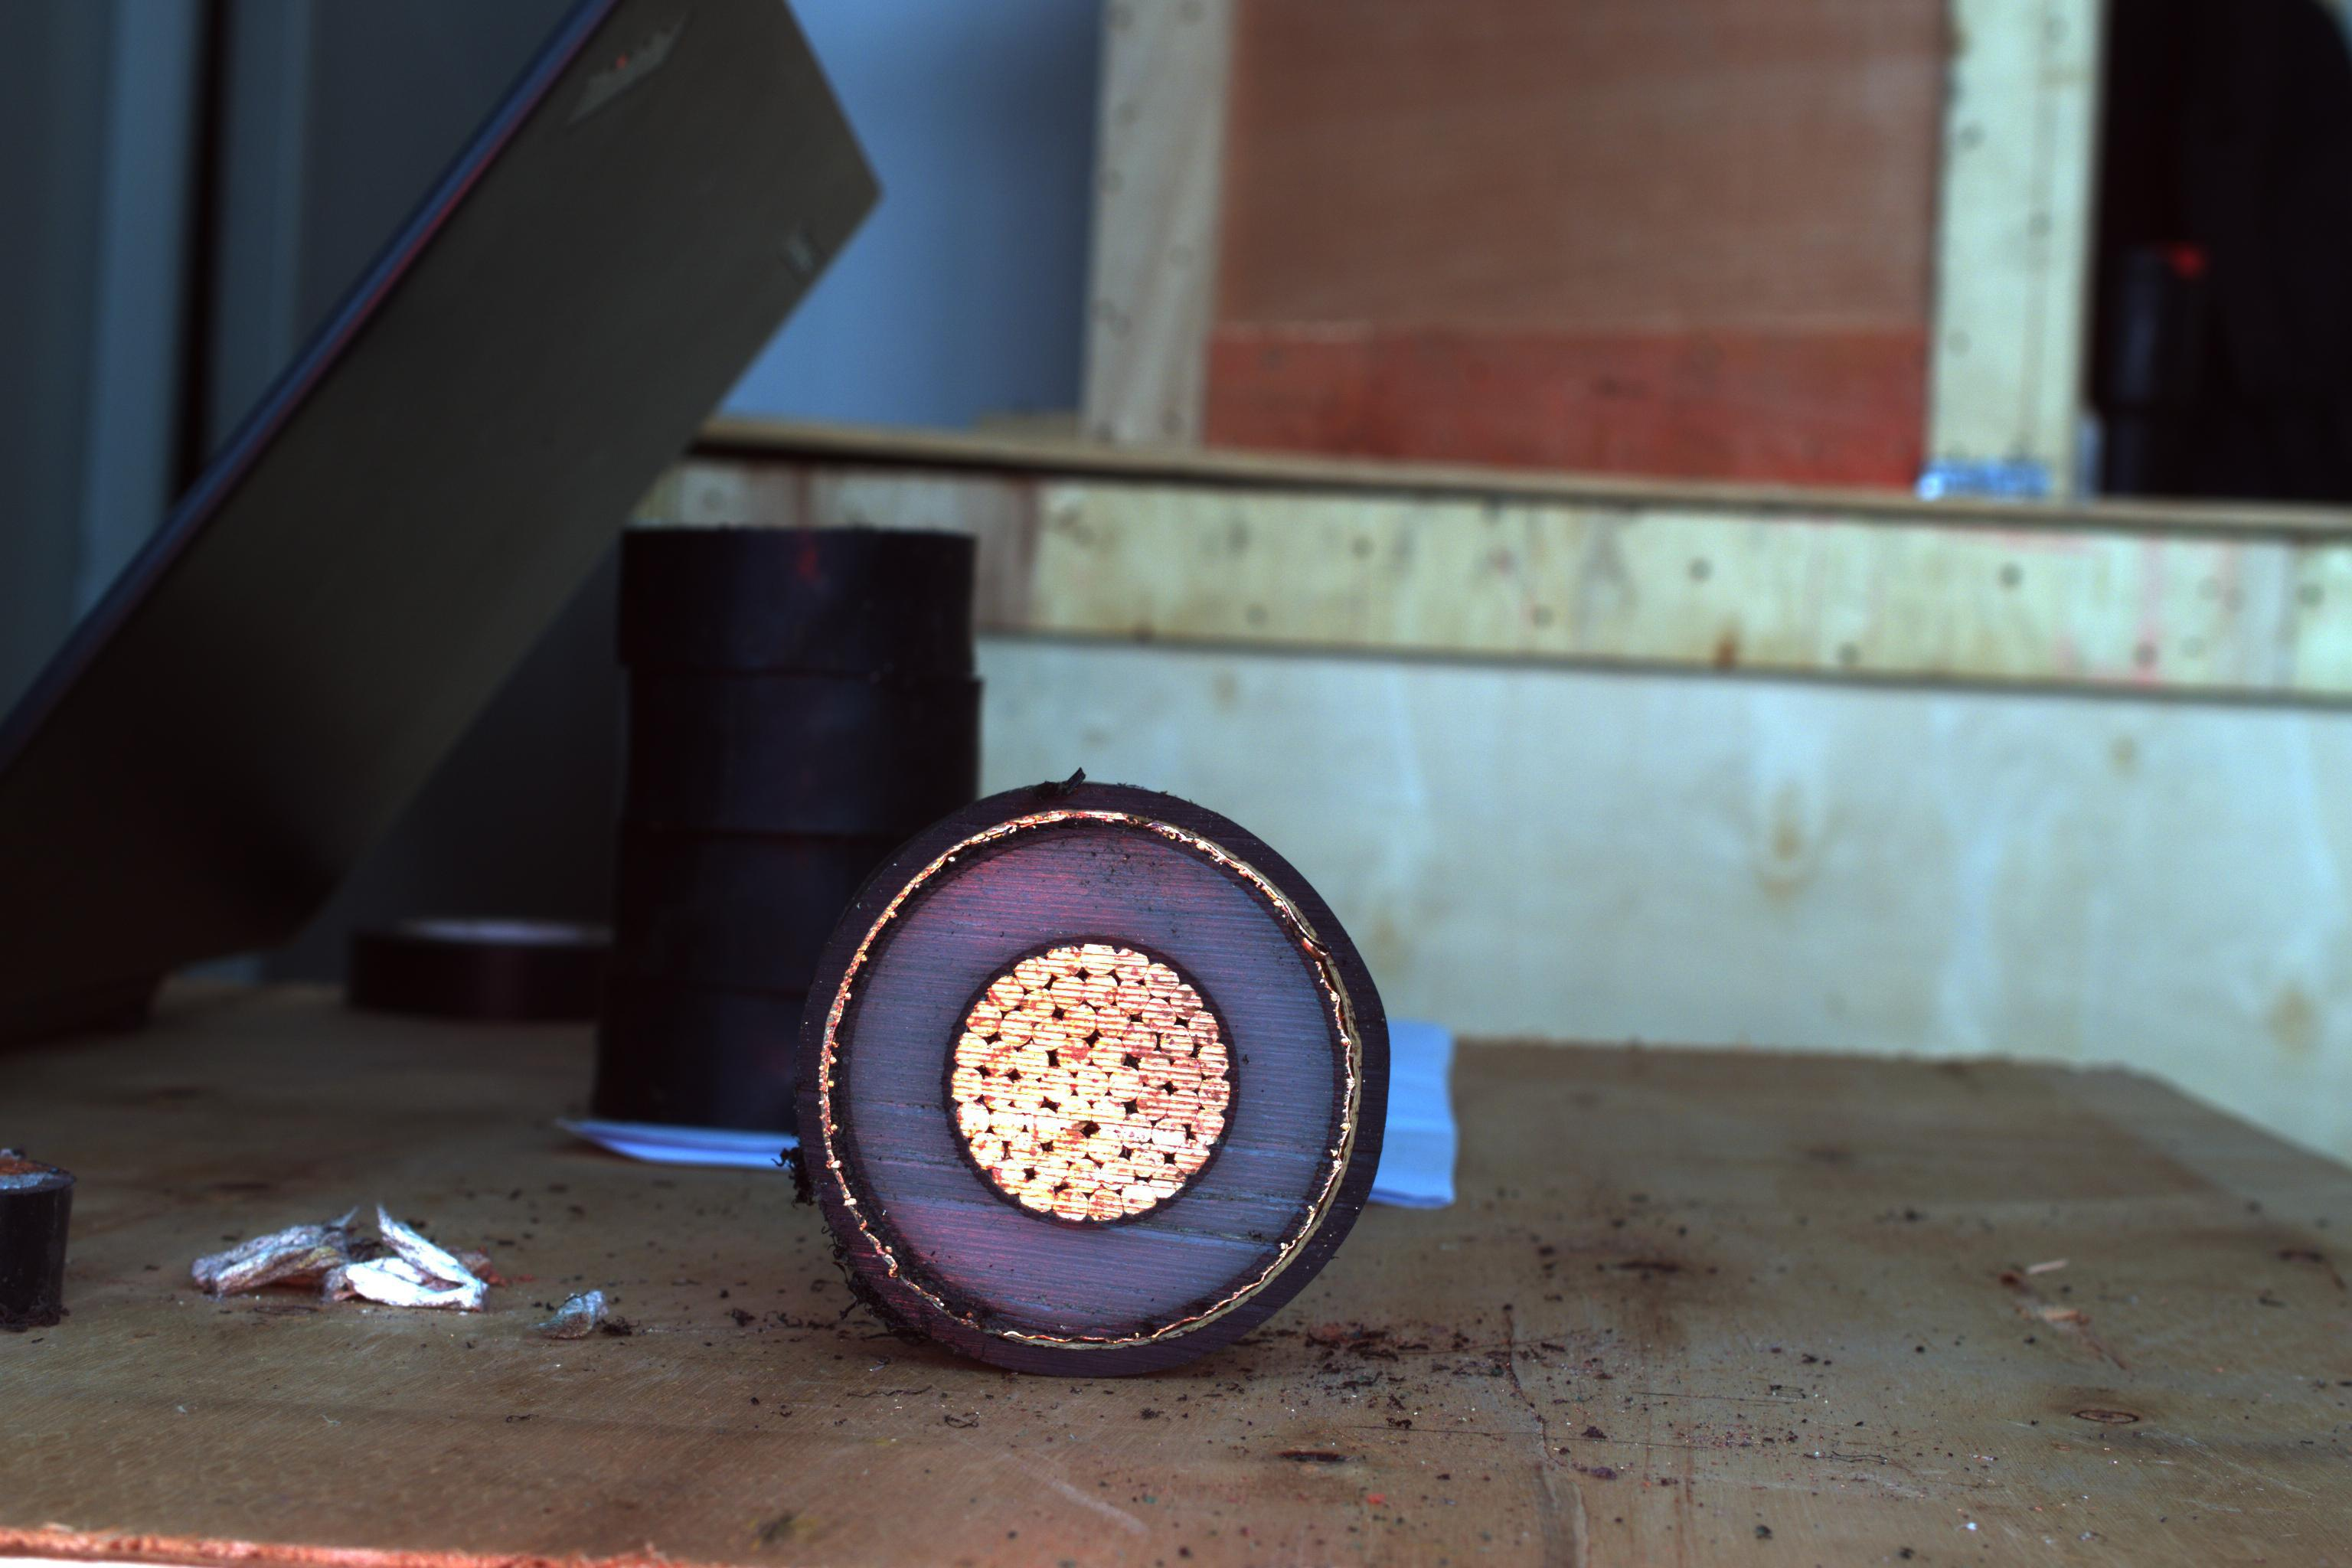YJV_26_35kV_1x630: (775, 766, 1403, 1402)
